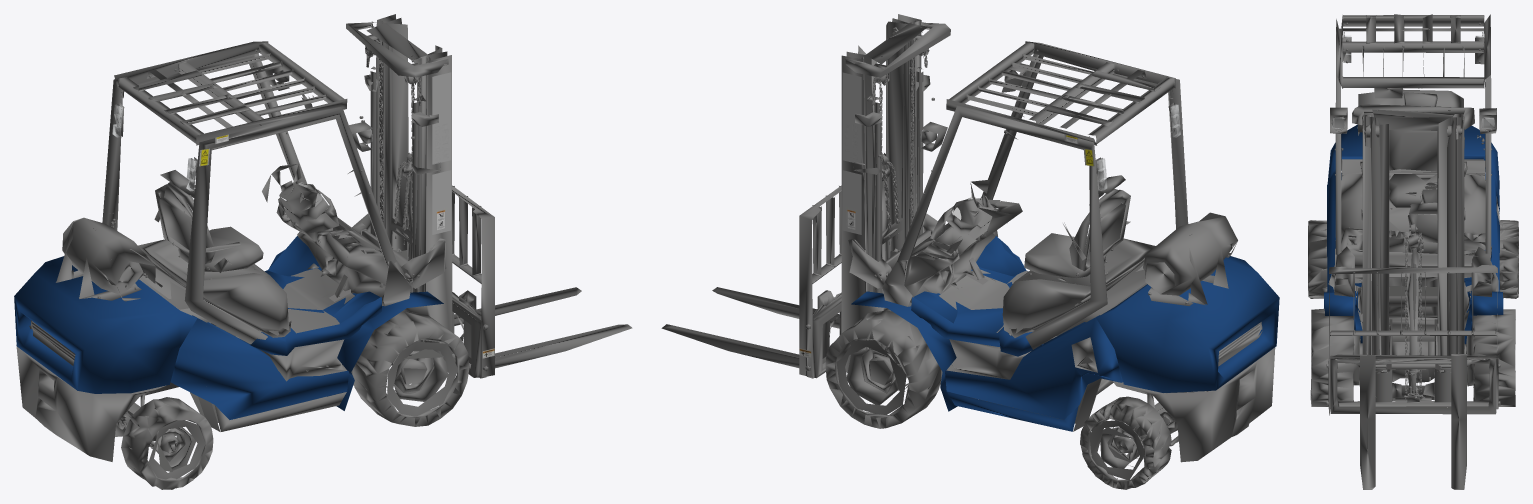
Rendered from forklift_auto.glb.
3 renders of one model, left to right at view 1: azimuth 30°, elevation 25°; view 2: azimuth 150°, elevation 25°; view 3: azimuth 270°, elevation 25°, orthographic. The views are drawn at different scales.
Visible parts, largest first — view 1: body, lift; view 2: body, lift; view 3: body, lift.
Part boxes in pixels (x1,y1,x2,y2): body: (14, 14, 494, 489); lift: (397, 153, 632, 378); body: (799, 14, 1279, 489); lift: (661, 153, 896, 378); body: (1308, 14, 1518, 406); lift: (1326, 265, 1500, 489).
Bounding box in the file's own units: 3.73 × 2.16 × 1.35.
Materials: 4 (1 with a texture image).
